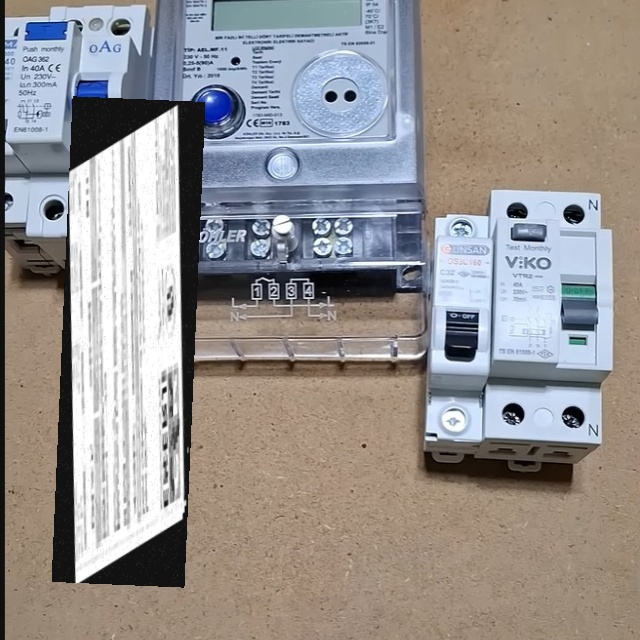electricity-bill: (51, 96, 205, 588)
